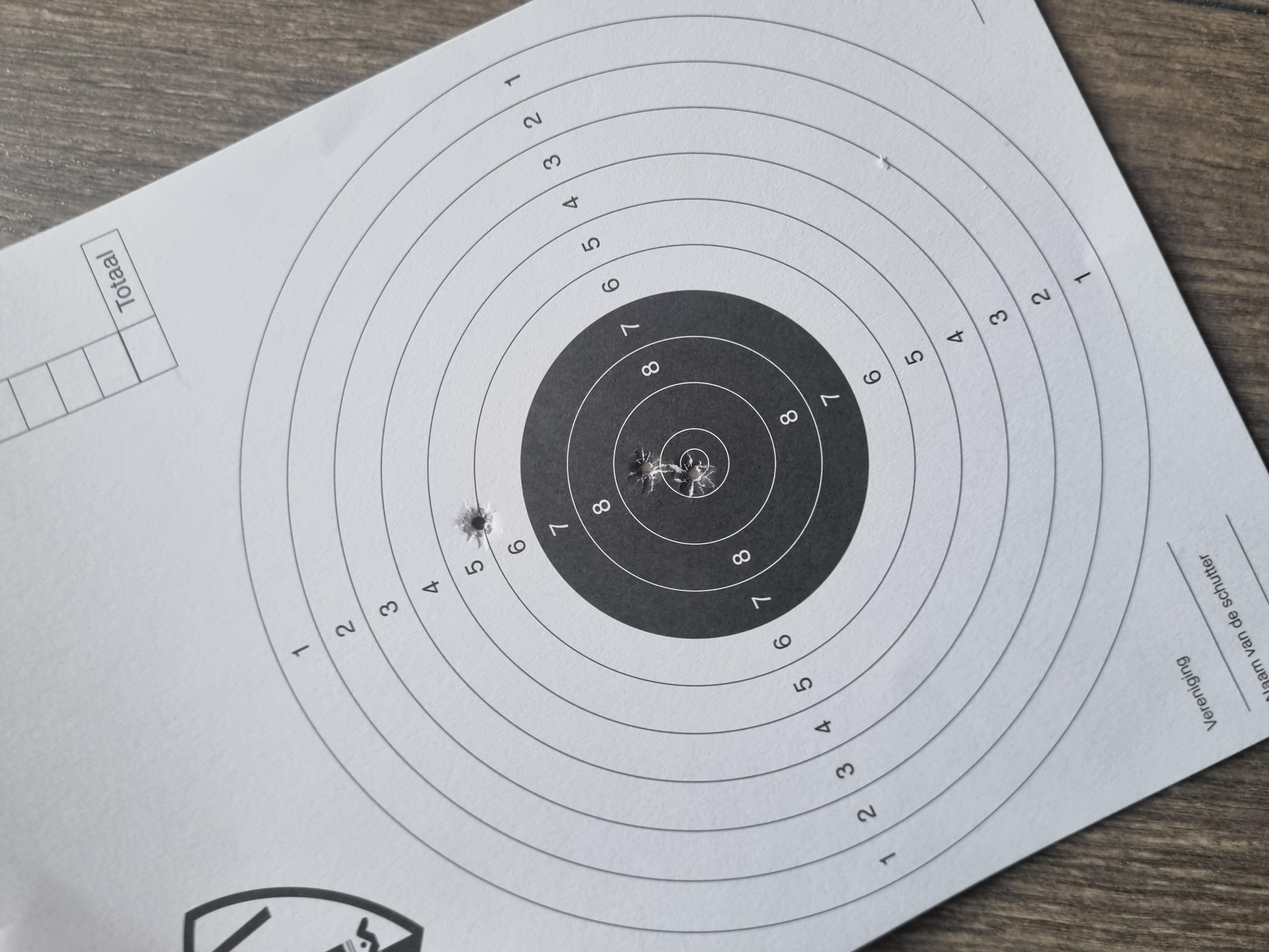hole: (612, 468, 672, 504), (537, 342, 600, 375), (611, 503, 666, 539)
